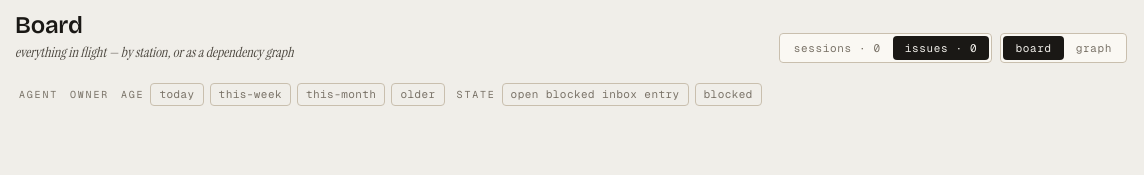
Test: Board › mode toggle › clicking the graph button while on issues view persists mode=graph in the URL
The image size is (1144, 175).
Click the button with test id "board-mode-graph" at (1094, 48), box 1064,36 -> 1124,60
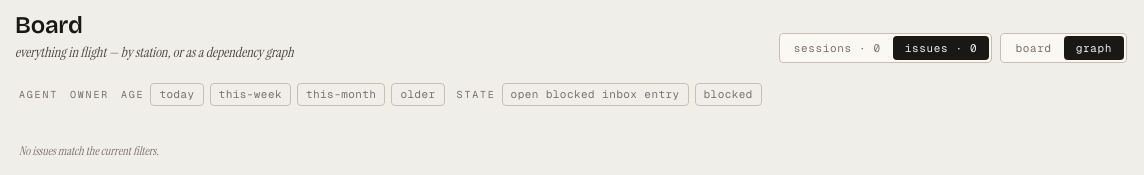
Expected: the text "No issues match the current filters." is shown, 19,142 -> 159,158
